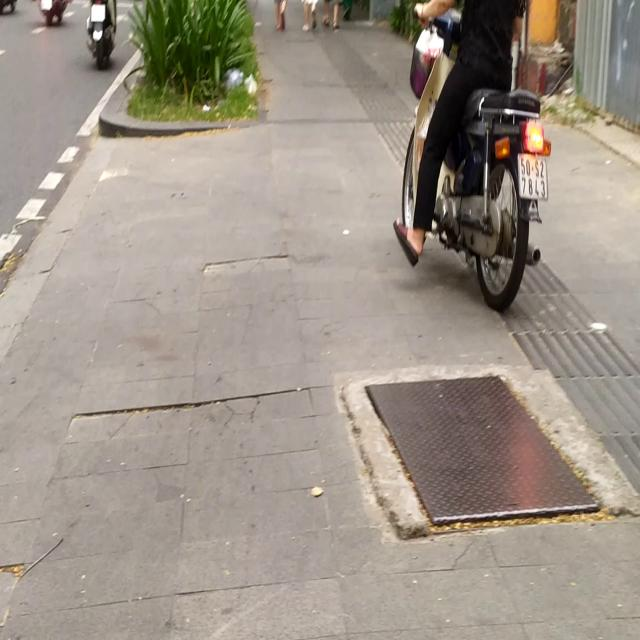bien_trang: (516, 149, 550, 200)
